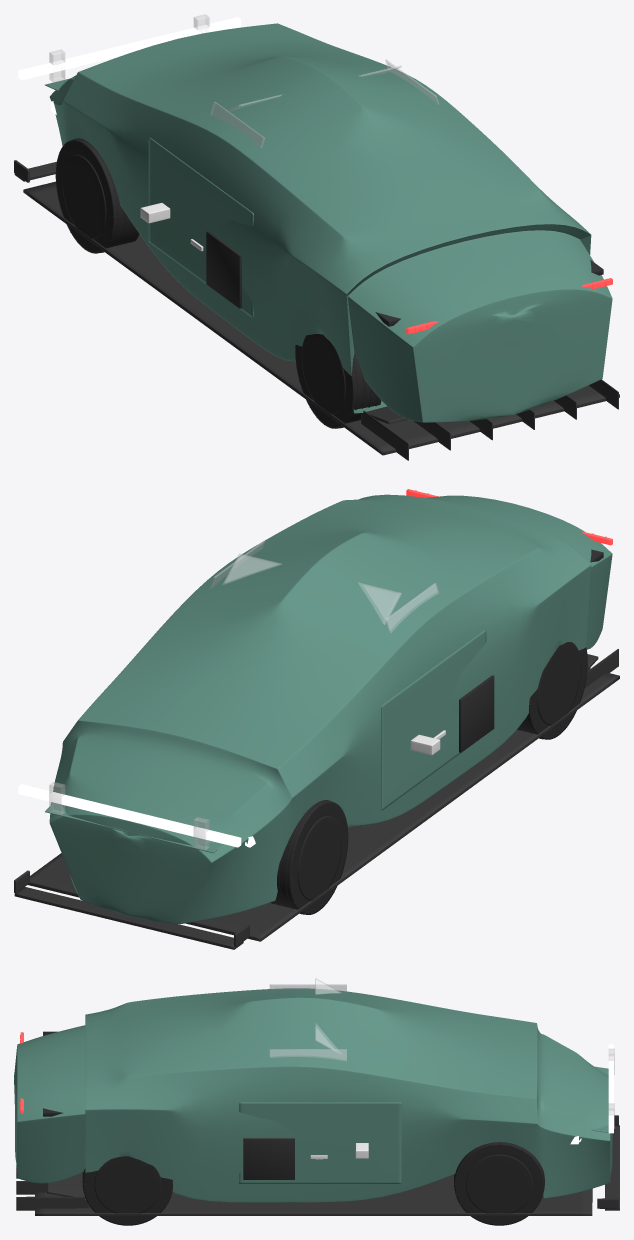
The model's file is Car_Rivian_R1T_2020s_Complete.glb.
3 renders of one model, top to bottom at view 1: azimuth 30°, elevation 25°; view 2: azimuth 150°, elevation 25°; view 3: azimuth 270°, elevation 25°, orthographic. The views are drawn at different scales.
Parts seen in each view (by area): view 1: BODY_MainShell, UNDERBODY_FlatFloor, BODY_Door_FL, WHEEL_FL_Tire, WHEEL_RL_Tire, LIGHTING_R1T_CrossBar, BODY_R1T_GearTunnelDoors, GLASS_Greenhouse, LIGHTING_R1T_Pods; view 2: BODY_MainShell, UNDERBODY_FlatFloor, BODY_Door_FL, WHEEL_FL_Tire, WHEEL_RL_Tire, AERO_FrontSplitter, GLASS_Greenhouse, LIGHTING_R1T_CrossBar, BODY_R1T_GearTunnelDoors, LIGHTING_R1T_Pods, BODY_Hood; view 3: BODY_MainShell, BODY_Door_FR, UNDERBODY_FlatFloor, WHEEL_FR_Tire, WHEEL_RR_Tire, BODY_R1T_GearTunnelDoors, GLASS_Greenhouse, AERO_FrontSplitter, LIGHTING_R1T_CrossBar.
Part boxes in pixels (box(x1,y1,x2,y2)): BODY_MainShell: box(49, 23, 612, 422); UNDERBODY_FlatFloor: box(23, 181, 619, 460); BODY_Door_FL: box(148, 137, 253, 318); WHEEL_FL_Tire: box(55, 138, 139, 253); WHEEL_RL_Tire: box(295, 334, 381, 428); LIGHTING_R1T_CrossBar: box(18, 17, 241, 80); BODY_R1T_GearTunnelDoors: box(206, 231, 241, 308); GLASS_Greenhouse: box(210, 59, 438, 147); LIGHTING_R1T_Pods: box(49, 14, 209, 82); BODY_MainShell: box(49, 494, 612, 924); UNDERBODY_FlatFloor: box(28, 649, 619, 941); BODY_Door_FL: box(381, 629, 486, 810); WHEEL_FL_Tire: box(270, 800, 348, 914); WHEEL_RL_Tire: box(517, 642, 587, 739); AERO_FrontSplitter: box(14, 870, 249, 949); GLASS_Greenhouse: box(210, 541, 438, 632); LIGHTING_R1T_CrossBar: box(18, 784, 241, 847); BODY_R1T_GearTunnelDoors: box(459, 675, 494, 752); LIGHTING_R1T_Pods: box(49, 782, 209, 850); BODY_Hood: box(45, 803, 222, 853); BODY_MainShell: box(14, 988, 612, 1202); BODY_Door_FR: box(239, 1102, 401, 1183); UNDERBODY_FlatFloor: box(16, 1165, 592, 1215); WHEEL_FR_Tire: box(454, 1142, 544, 1225); WHEEL_RR_Tire: box(82, 1156, 173, 1225); BODY_R1T_GearTunnelDoors: box(243, 1138, 294, 1179); GLASS_Greenhouse: box(269, 978, 346, 1060); AERO_FrontSplitter: box(597, 1115, 619, 1210); LIGHTING_R1T_CrossBar: box(608, 1044, 613, 1133).
Size of what is drawn, in the model's own units: 2.43 by 1.89 by 5.63.
